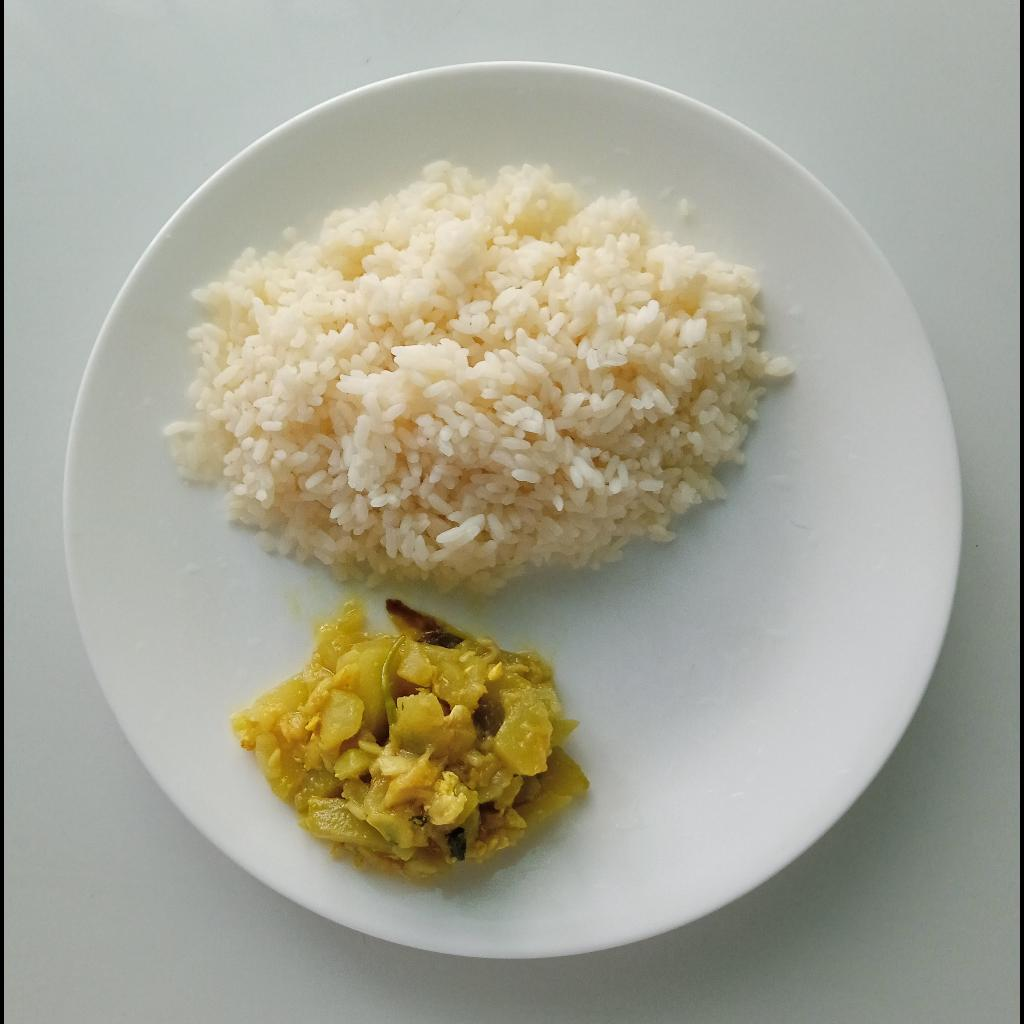lau: (233, 597, 593, 879)
rice: (163, 159, 802, 594)
